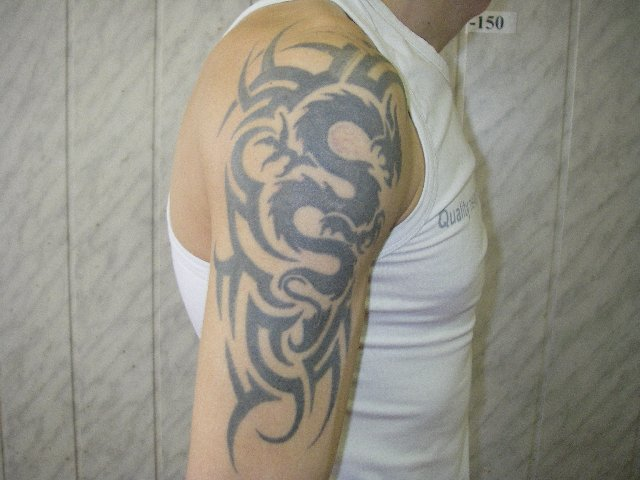tatu6_drakon: (205, 12, 420, 471)
